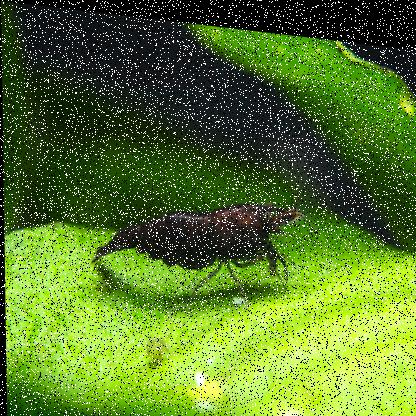shrimp: (84, 177, 307, 312)
